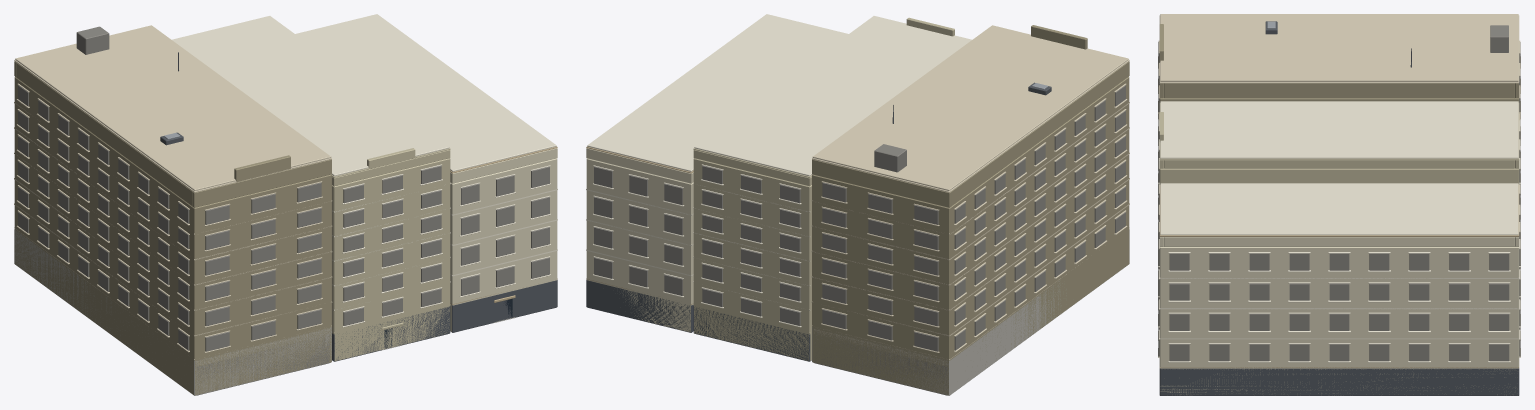
File: VG_Bld_Downtown_13.fbx
3 views of the same model, side by side, from view 1: azimuth 30°, elevation 25°; view 2: azimuth 150°, elevation 25°; view 3: azimuth 270°, elevation 25° (orthographic).
Parts seen in each view (by area): view 1: VG_Bld_Downtown_13_Body; view 2: VG_Bld_Downtown_13_Body; view 3: VG_Bld_Downtown_13_Body.
Part boxes in pixels (x1=…): VG_Bld_Downtown_13_Body: x1=14, y1=14, x2=557, y2=395; VG_Bld_Downtown_13_Body: x1=586, y1=14, x2=1129, y2=395; VG_Bld_Downtown_13_Body: x1=1158, y1=14, x2=1520, y2=395.
Bounding box in the file's own units: 49 × 28.68 × 42.
